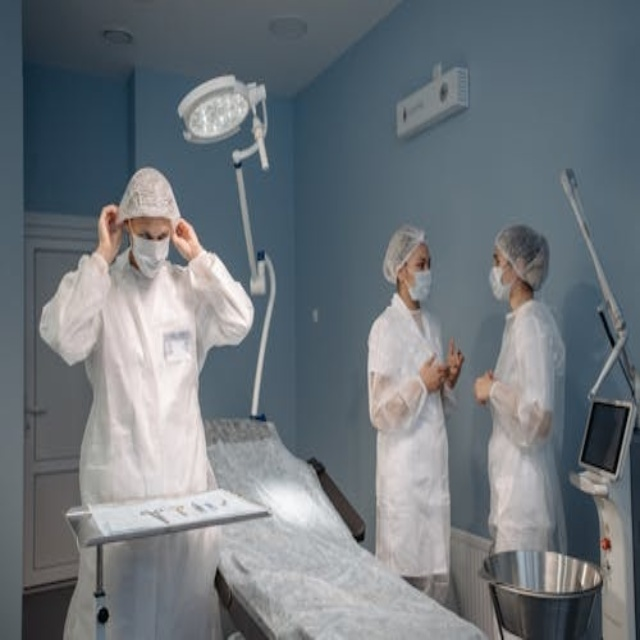Mascara: (129, 227, 170, 278), (404, 267, 432, 302), (489, 263, 513, 302)
Sin_gafas: (402, 245, 436, 270), (131, 224, 171, 243), (489, 247, 512, 264)
Sin_guantes: (93, 195, 125, 263), (421, 347, 455, 394), (168, 217, 204, 255), (471, 362, 494, 397)
